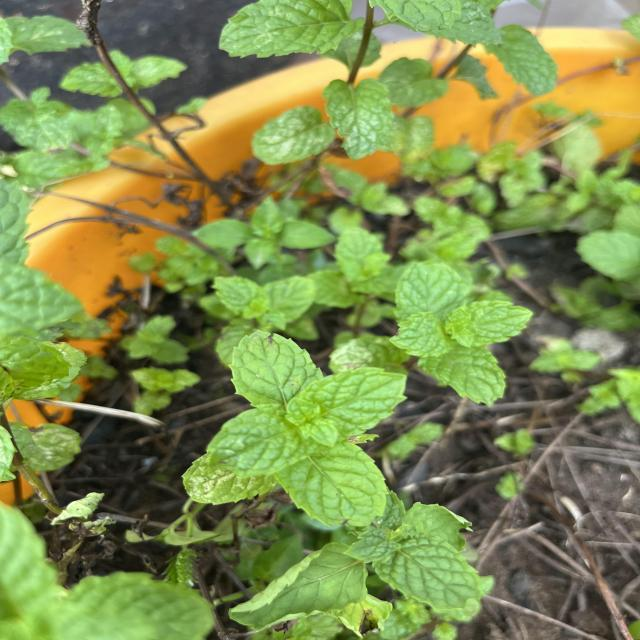Mentha spicata: (274, 440, 391, 530), (217, 0, 366, 60), (372, 535, 484, 612), (297, 364, 410, 438), (227, 328, 326, 406), (448, 299, 534, 349)
